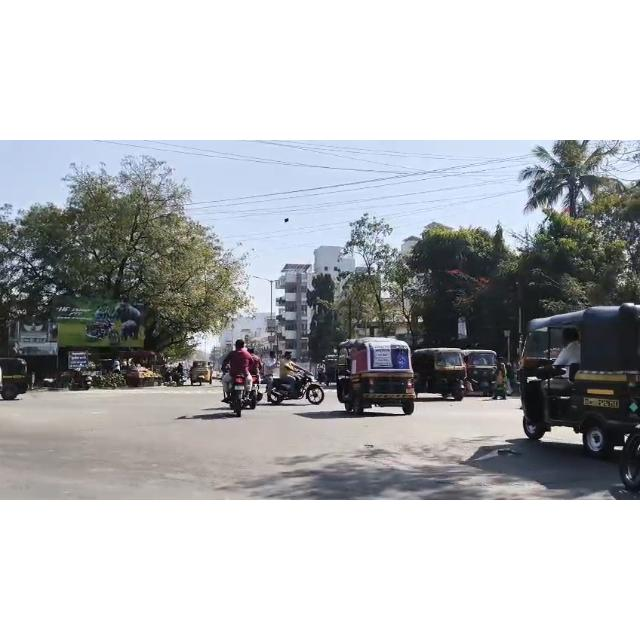auto: (520, 314, 640, 458), (332, 336, 440, 428), (411, 340, 481, 400), (466, 342, 510, 403), (1, 356, 33, 404)
